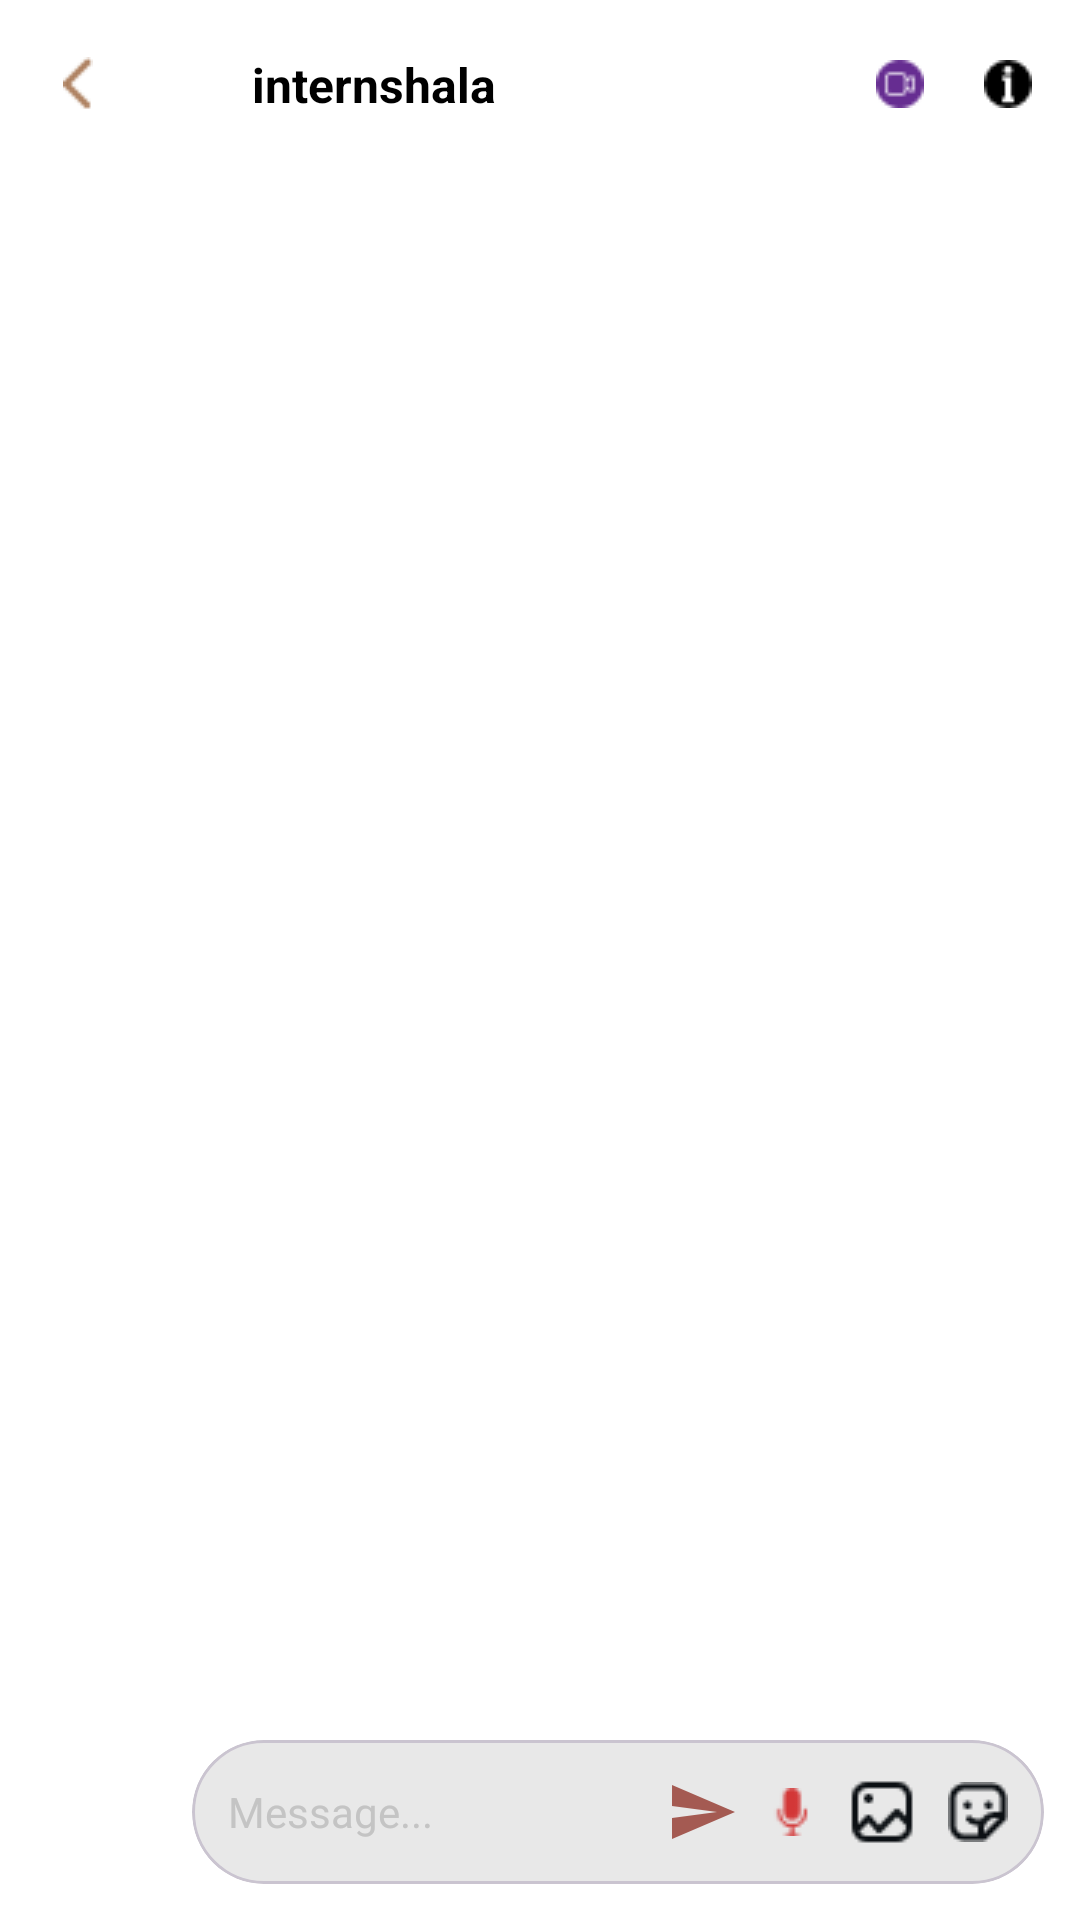

Named icons in this screenshot (1080 x 1920) and their bounding boxes, (x1, y1, x2, y2):
backbig: (63, 57, 93, 109)
infocircle: (984, 60, 1032, 108)
redmicrophone: (776, 1788, 808, 1836)
send: (672, 1785, 735, 1839)
vcall: (876, 60, 924, 108)
